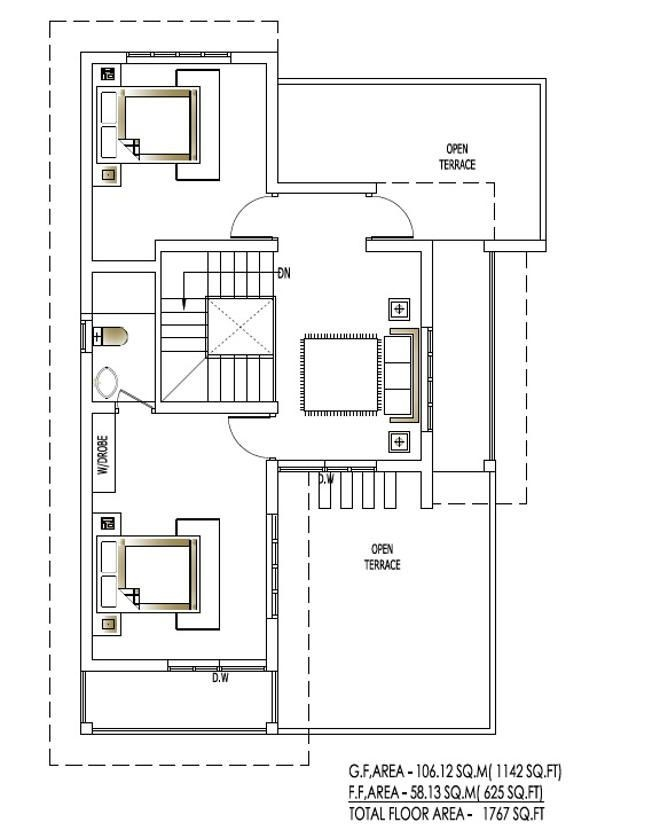door: (225, 407, 287, 462), (368, 193, 431, 237), (230, 195, 283, 243)
room: (87, 406, 286, 673), (82, 39, 286, 253)
wall: (73, 349, 98, 674), (159, 230, 281, 257), (365, 233, 440, 263)
window: (121, 45, 235, 72), (417, 328, 446, 433), (258, 512, 284, 620), (177, 659, 269, 680)
